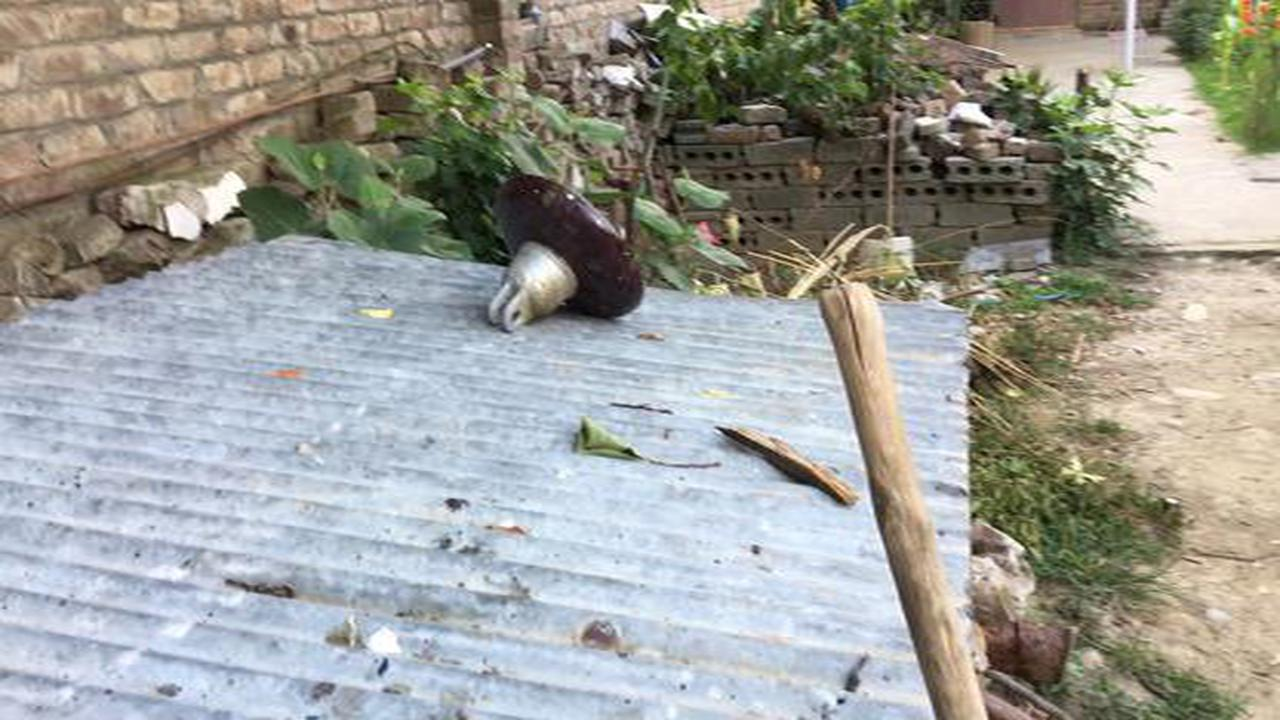insulator_disc: (477, 166, 649, 341)
